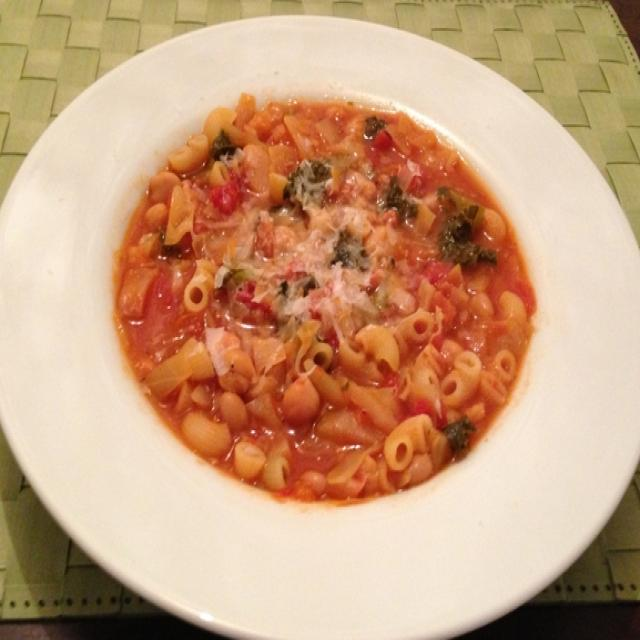汤锅炖物: (8, 13, 636, 631)
